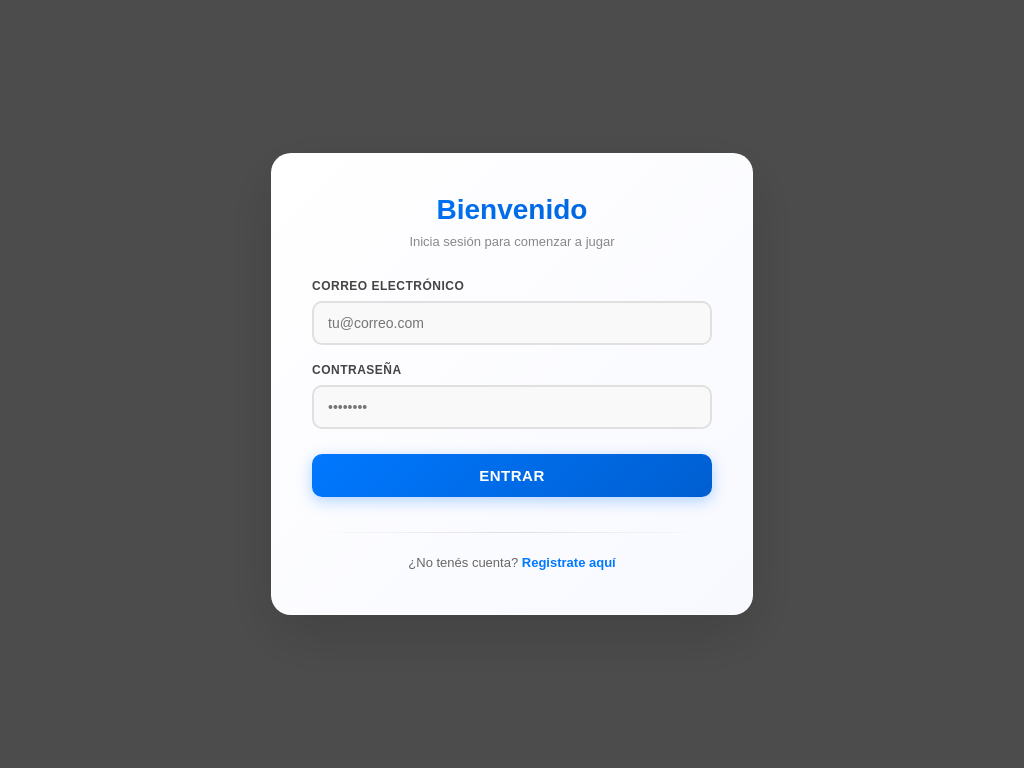
Test: ModalUsuario (Login/Registro) › cambia al modo de registro cuando se hace clic en "Registrate aquí"
Expected: the field labelled "Nombre de usuario" is not shown
Expected: the button "Entrar" is shown, [312,454,712,497]
Click the text "Registrate aquí". click: (569, 563)
box: [522,555,616,570]
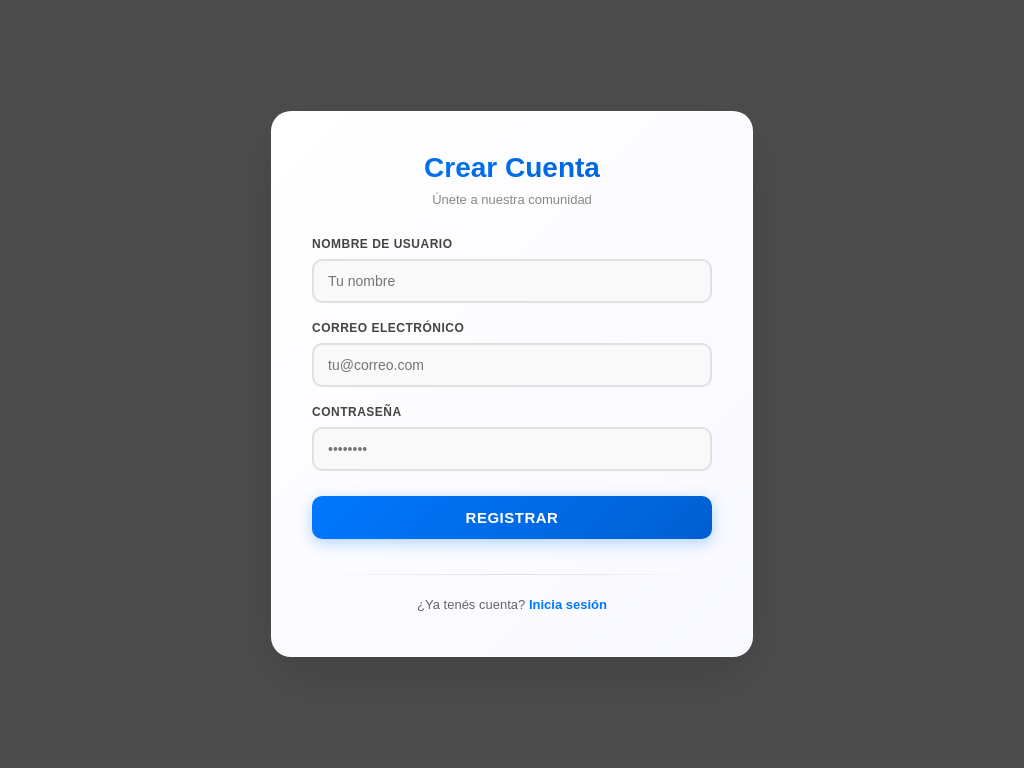
Now the field labelled "Nombre de usuario" is shown, box [312,259,712,303]
Now the button "Registrar" is shown, box [312,496,712,539]
